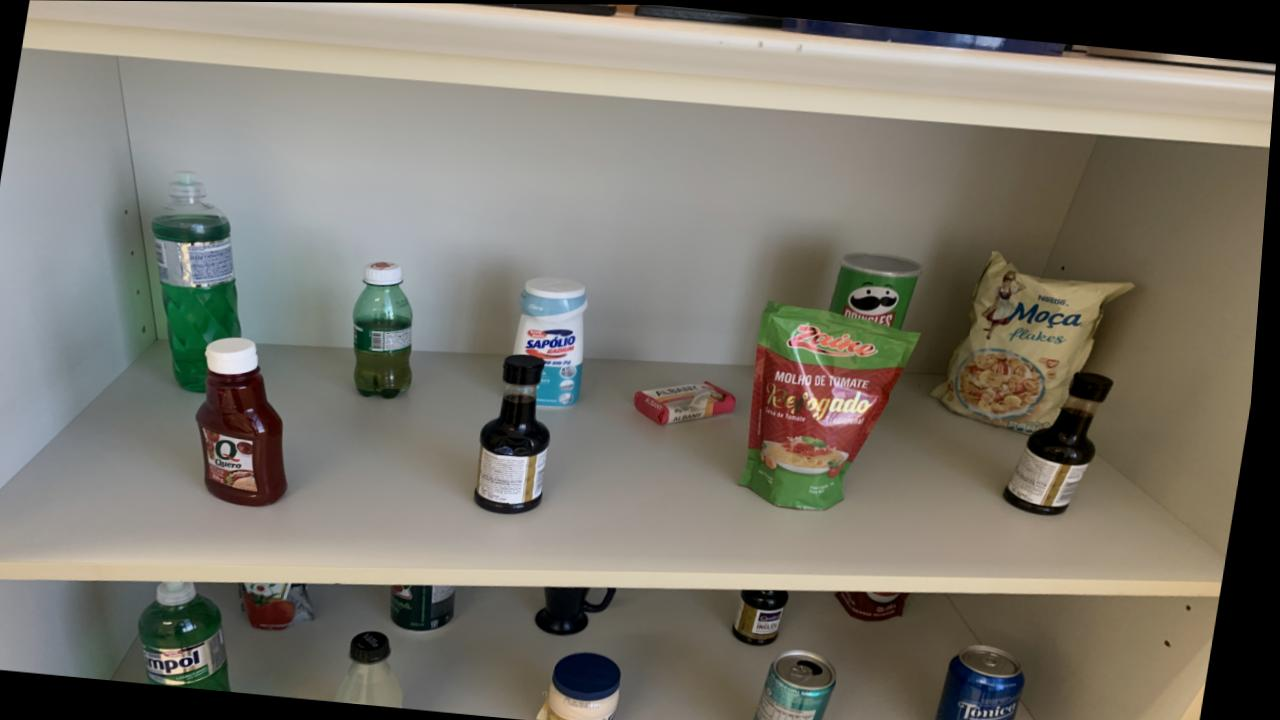Cleaner-Cleanup_Items: (518, 276, 593, 407)
Detergent-Cleanup_Items: (154, 172, 245, 391), (146, 581, 241, 691)
English_Sauce-Pantry_Items: (1012, 370, 1117, 513), (481, 353, 556, 513), (742, 588, 797, 645)
Flakes-Snacks: (936, 250, 1138, 431)
Guarana-Drinks: (357, 260, 418, 398)
Guarana_Can-Drinks: (399, 584, 464, 630)
Ketchup-Pantry_Items: (202, 337, 295, 507)
Mayonnaise-Pantry_Items: (557, 651, 632, 720)
Pringles-Snacks: (833, 251, 925, 328)
Soap-Cleanup_Items: (639, 381, 742, 423)
Soda-Drinks: (346, 630, 414, 707)
Tea-Drinks: (766, 648, 847, 720)
Tomato_Sauce-Pantry_Items: (745, 301, 925, 509), (247, 581, 324, 630), (844, 590, 917, 620)
Tonic-Drinks: (946, 644, 1035, 720)
